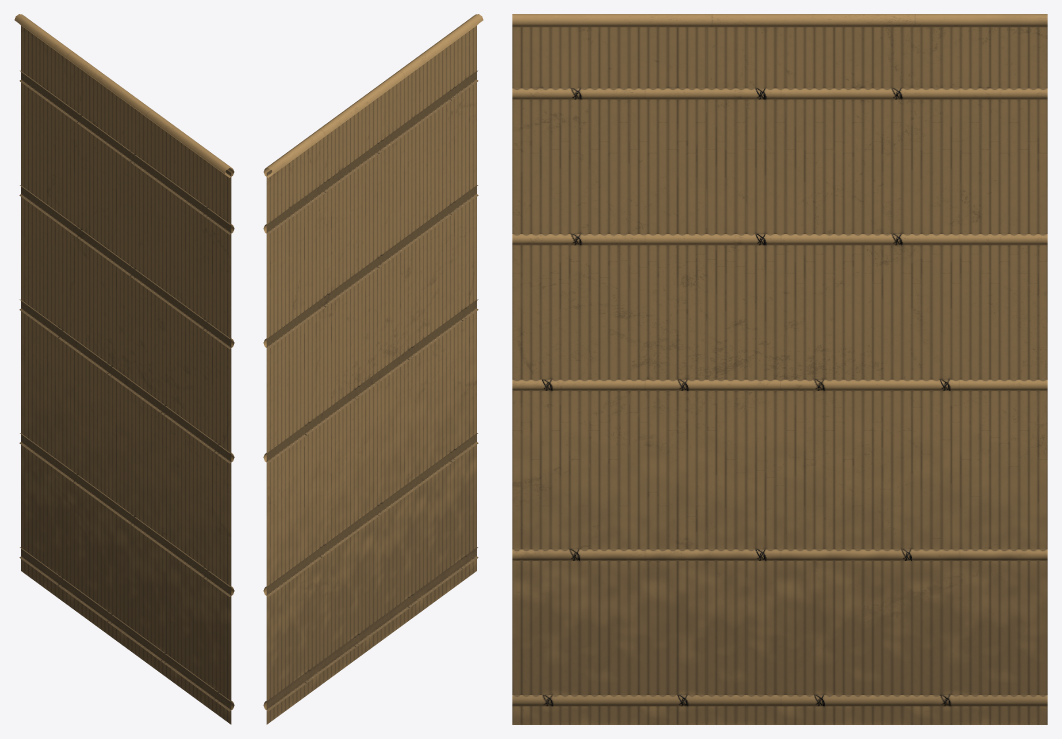
Rendered from Onsen_Fence_Bamboo_Exterior_01_2x3.fbx.
3 views of the same model, side by side, from view 1: azimuth 30°, elevation 25°; view 2: azimuth 150°, elevation 25°; view 3: azimuth 270°, elevation 25° (orthographic). The views are drawn at different scales.
Visible parts, largest first — view 1: Onsen_Fence_Bamboo_Exterior_01_2x3; view 2: Onsen_Fence_Bamboo_Exterior_01_2x3; view 3: Onsen_Fence_Bamboo_Exterior_01_2x3.
Boxes of the visible parts, bbox=[...] form: Onsen_Fence_Bamboo_Exterior_01_2x3: bbox=[14, 14, 234, 724]; Onsen_Fence_Bamboo_Exterior_01_2x3: bbox=[263, 14, 483, 724]; Onsen_Fence_Bamboo_Exterior_01_2x3: bbox=[512, 14, 1047, 724].
Bounding box in the file's own units: 0.0537 × 2.92 × 2.
